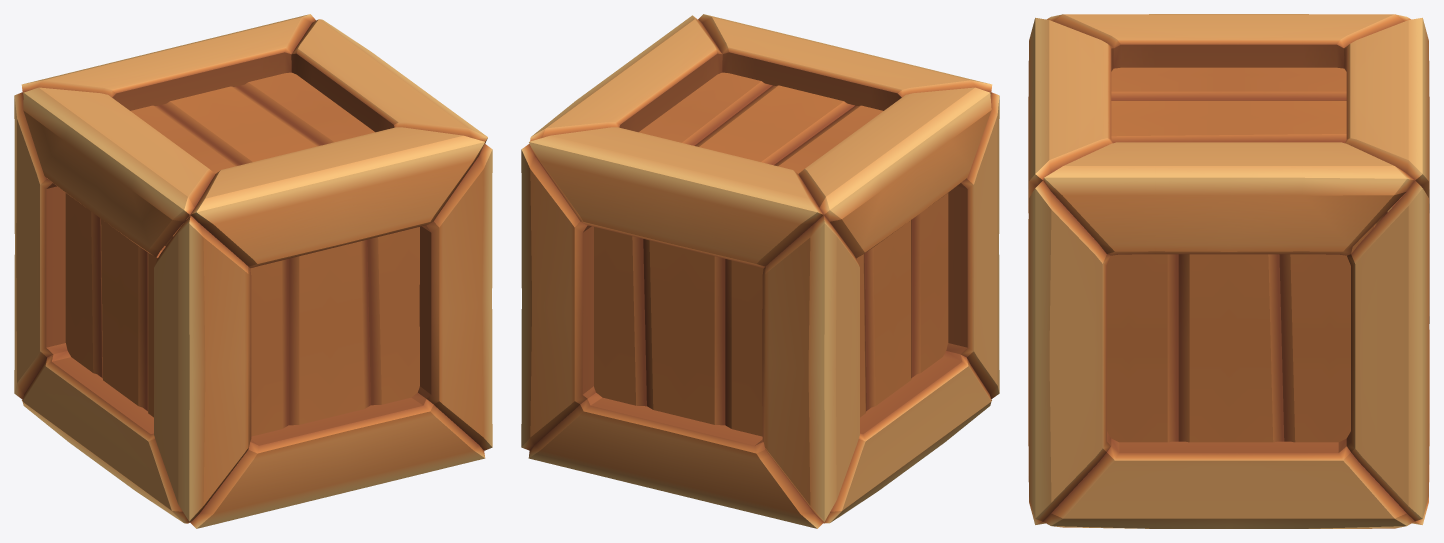
The model's file is Wood_Box.fbx.
The picture shows the model from 3 angles, left to right: view 1: azimuth 30°, elevation 25°; view 2: azimuth 150°, elevation 25°; view 3: azimuth 270°, elevation 25°; orthographic projection. The views are drawn at different scales.
Visible parts, largest first — view 1: mdl_Median_Box_1x1_01_1_5; view 2: mdl_Median_Box_1x1_01_1_5; view 3: mdl_Median_Box_1x1_01_1_5.
Part boxes in pixels (x1=…): mdl_Median_Box_1x1_01_1_5: x1=14, y1=14, x2=492, y2=528; mdl_Median_Box_1x1_01_1_5: x1=521, y1=14, x2=999, y2=528; mdl_Median_Box_1x1_01_1_5: x1=1028, y1=14, x2=1429, y2=528.
Size of the model in its own units: 100 by 100 by 100.
Materials: 1 (1 with a texture image).
